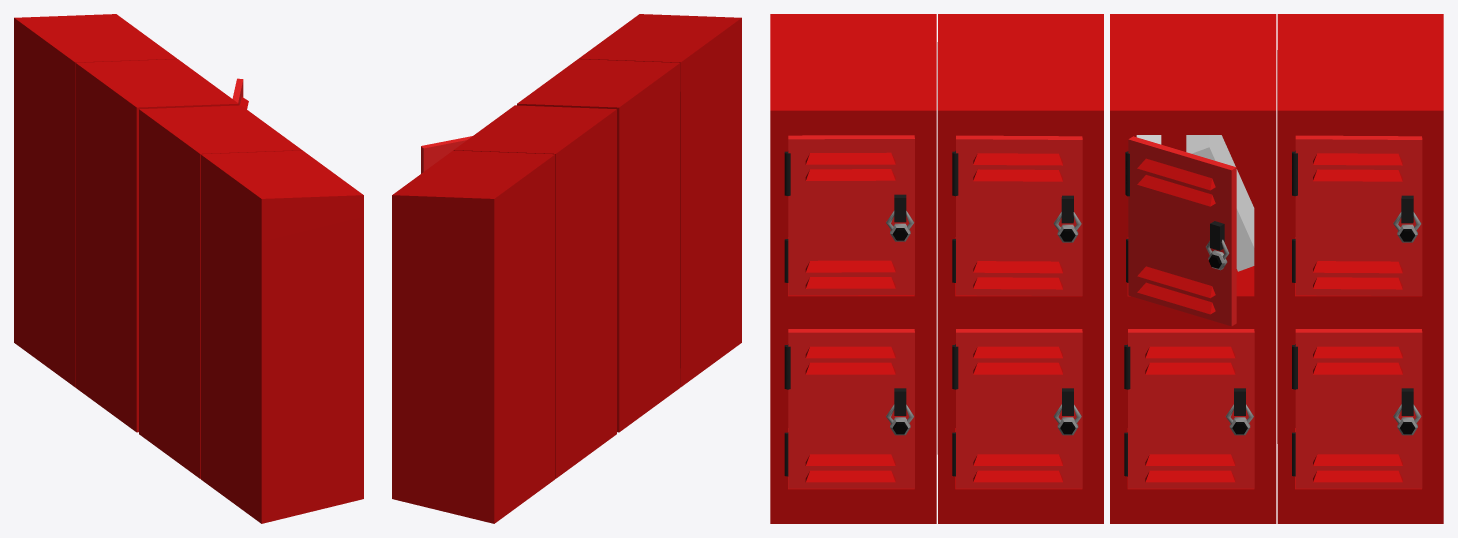
Rendered from locker.FBX.
The picture shows the model from 3 angles, left to right: view 1: azimuth 30°, elevation 25°; view 2: azimuth 150°, elevation 25°; view 3: azimuth 270°, elevation 25°; orthographic projection. The views are drawn at different scales.
Parts seen in each view (by area): view 1: Box037, Box063, Box058, Box001; view 2: Box058, Box001, Box037, Box063, Box052; view 3: Box063, Box001, Box037, Box058, Box045, Box061, Box031, Box019, Box025, Box057, Box015, Box052 (+33 smaller).
Boxes of the visible parts, <box> form: Box037: <box>200,150,363,523</box>; Box063: <box>75,59,238,432</box>; Box058: <box>14,14,176,387</box>; Box001: <box>139,105,302,478</box>; Box058: <box>392,150,555,523</box>; Box001: <box>517,59,680,432</box>; Box037: <box>578,14,741,387</box>; Box063: <box>453,105,616,478</box>; Box052: <box>421,136,472,173</box>; Box063: <box>1110,14,1276,523</box>; Box001: <box>937,14,1103,523</box>; Box037: <box>770,14,936,523</box>; Box058: <box>1277,14,1443,523</box>; Box045: <box>1295,135,1422,295</box>; Box061: <box>1295,329,1422,488</box>; Box031: <box>788,135,914,295</box>; Box019: <box>956,135,1082,295</box>; Box025: <box>788,329,914,488</box>; Box057: <box>1128,329,1254,488</box>; Box015: <box>956,329,1082,488</box>; Box052: <box>1128,136,1236,326</box>.
Size of the model in its own units: 73.87 by 149 by 206.
